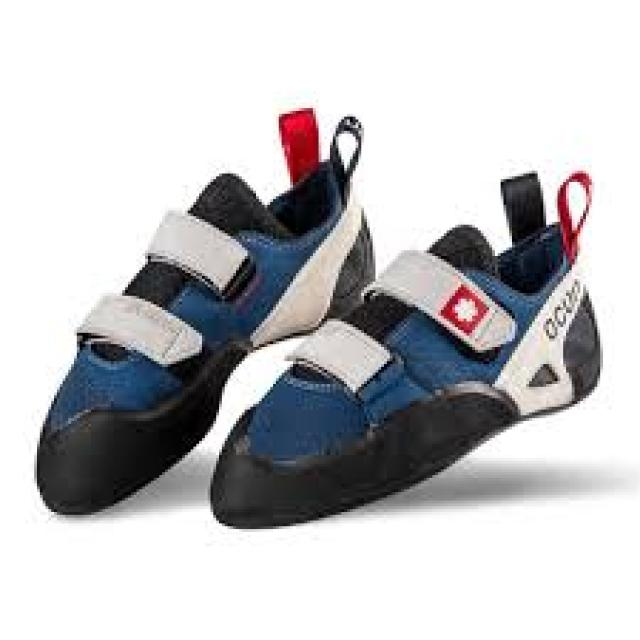climbing-shoes: (209, 168, 604, 532), (38, 103, 370, 515)
